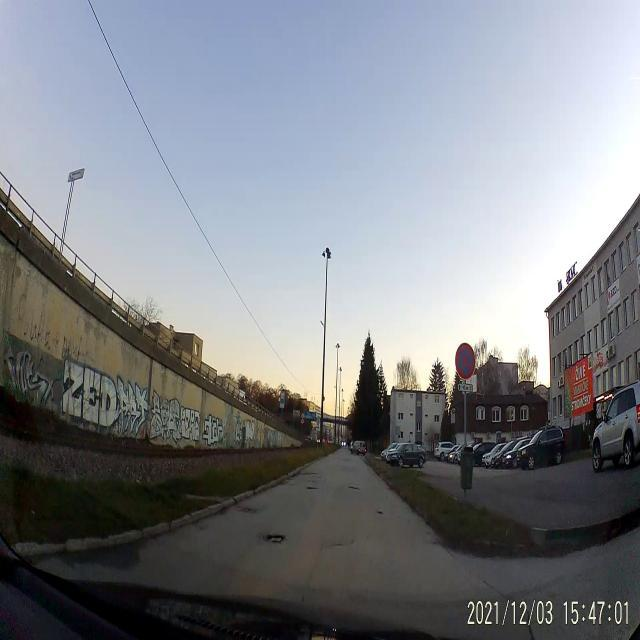Manhole: (234, 502, 260, 517)
Pothole: (258, 527, 290, 544), (292, 470, 327, 480), (344, 480, 366, 494), (304, 482, 324, 492), (377, 508, 385, 520)
